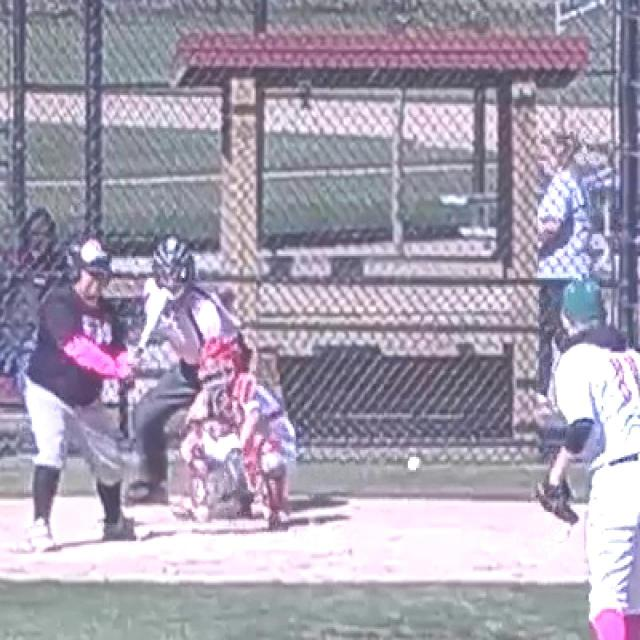baseball: (408, 458, 422, 470)
